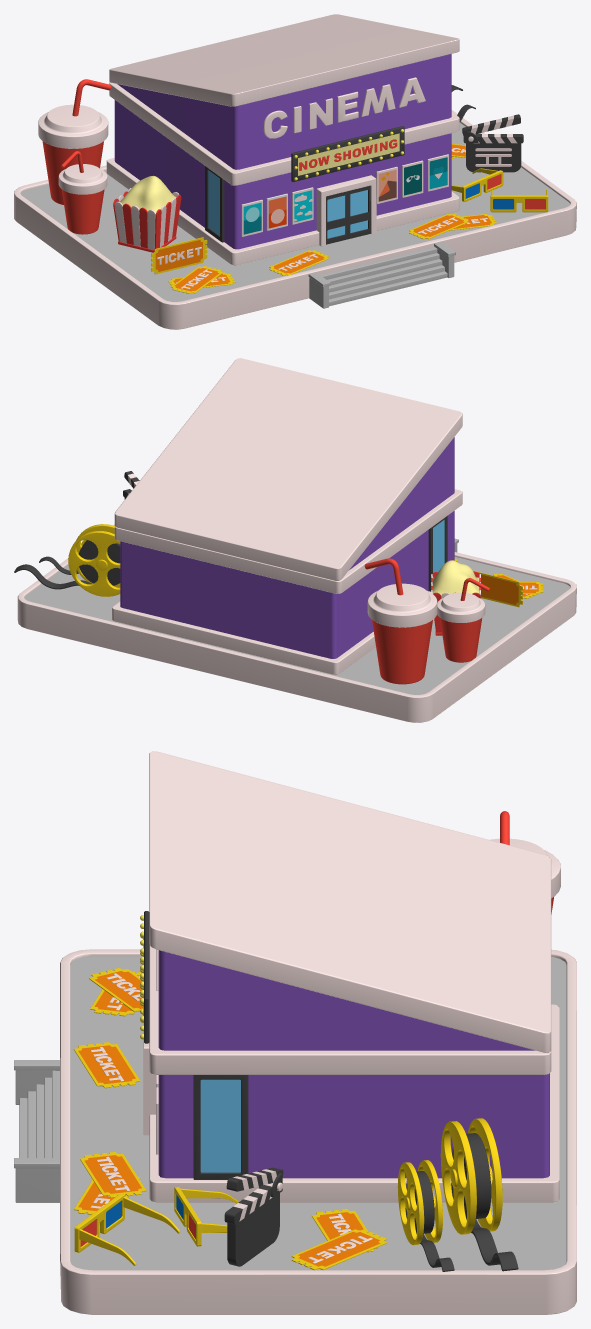
File: Public_Island_4.glb
The picture shows the model from 3 angles, top to bottom: view 1: azimuth 30°, elevation 25°; view 2: azimuth 150°, elevation 25°; view 3: azimuth 270°, elevation 25°; orthographic projection. The views are drawn at different scales.
Visible parts, largest first — view 1: Public_4_Cinema_1, Public_4_Base_1, Public_4_Drink_1, Public_4_Popcorn_1, Public_4_Cinema_Sign_1, Public_4_Drink_2, Public_4_Clapperboard_1, Public_4_Cinema_Ticket_1, Public_4_Cinema_Glasses_1, Public_4_Cinema_Glasses_2, Public_4_Cinema_Ticket_6, Public_4_Cinema_Ticket_4 (+8 smaller); view 2: Public_4_Cinema_1, Public_4_Base_1, Public_4_Drink_1, Public_4_Roll_of_Film_2, Public_4_Drink_2, Public_4_Popcorn_1, Public_4_Cinema_Ticket_1; view 3: Public_4_Cinema_1, Public_4_Base_1, Public_4_Roll_of_Film_2, Public_4_Clapperboard_1, Public_4_Roll_of_Film_1, Public_4_Cinema_Glasses_1, Public_4_Cinema_Ticket_8, Public_4_Cinema_Ticket_4, Public_4_Cinema_Ticket_6, Public_4_Cinema_Glasses_2, Public_4_Cinema_Ticket_3, Public_4_Cinema_Sign_1 (+2 smaller).
Boxes of the visible parts, box(x1,y1,x2,y2) form: Public_4_Cinema_1: box(106, 14, 459, 265); Public_4_Base_1: box(14, 110, 576, 329); Public_4_Drink_1: box(38, 79, 111, 204); Public_4_Popcorn_1: box(113, 175, 181, 252); Public_4_Cinema_Sign_1: box(291, 126, 404, 181); Public_4_Drink_2: box(58, 151, 107, 234); Public_4_Clapperboard_1: box(462, 114, 523, 172); Public_4_Cinema_Ticket_1: box(151, 237, 207, 274); Public_4_Cinema_Glasses_1: box(490, 190, 548, 212); Public_4_Cinema_Glasses_2: box(451, 168, 503, 201); Public_4_Cinema_Ticket_6: box(409, 213, 468, 239); Public_4_Cinema_Ticket_4: box(269, 250, 328, 275); Public_4_Cinema_1: box(112, 358, 462, 674); Public_4_Base_1: box(17, 524, 576, 722); Public_4_Drink_1: box(364, 558, 437, 684); Public_4_Roll_of_Film_2: box(14, 524, 120, 596); Public_4_Drink_2: box(437, 578, 489, 662); Public_4_Popcorn_1: box(431, 560, 480, 635); Public_4_Cinema_Ticket_1: box(473, 570, 522, 607); Public_4_Cinema_1: box(143, 751, 559, 1202); Public_4_Base_1: box(14, 949, 576, 1314); Public_4_Roll_of_Film_2: box(440, 1118, 518, 1271); Public_4_Clapperboard_1: box(224, 1167, 283, 1266); Public_4_Roll_of_Film_1: box(397, 1160, 454, 1271); Public_4_Cinema_Glasses_1: box(74, 1194, 180, 1265); Public_4_Cinema_Ticket_8: box(291, 1229, 386, 1270); Public_4_Cinema_Ticket_4: box(73, 1042, 140, 1088); Public_4_Cinema_Ticket_6: box(80, 1152, 146, 1197); Public_4_Cinema_Glasses_2: box(174, 1187, 238, 1246); Public_4_Cinema_Ticket_3: box(89, 968, 143, 1011); Public_4_Cinema_Sign_1: box(140, 911, 149, 1043).
Size of the model in its own units: 23.69 by 10.09 by 16.43.
25 materials, 25 textured.
